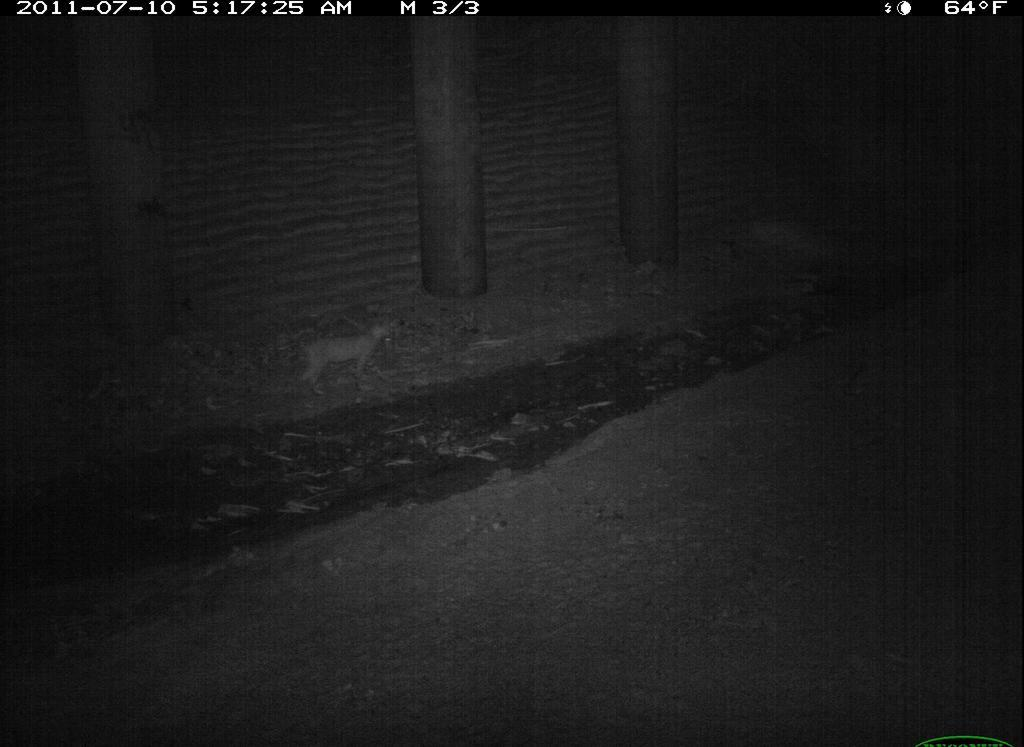bobcat: (575, 626, 800, 747)
